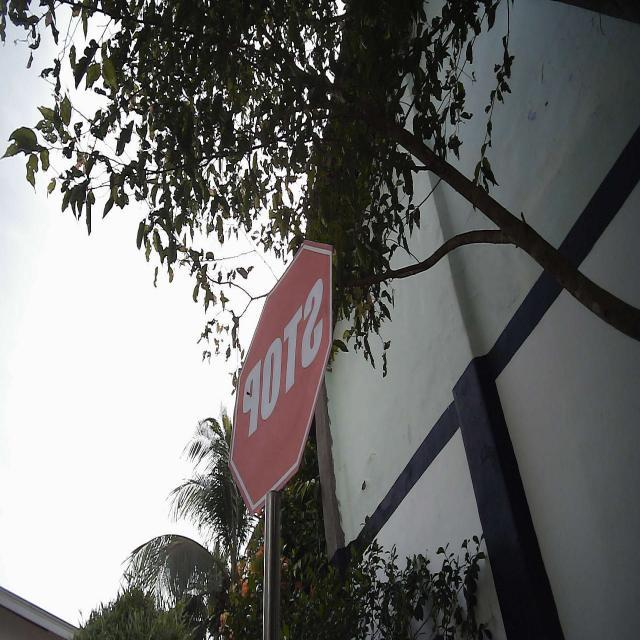stop: (222, 236, 336, 521)
